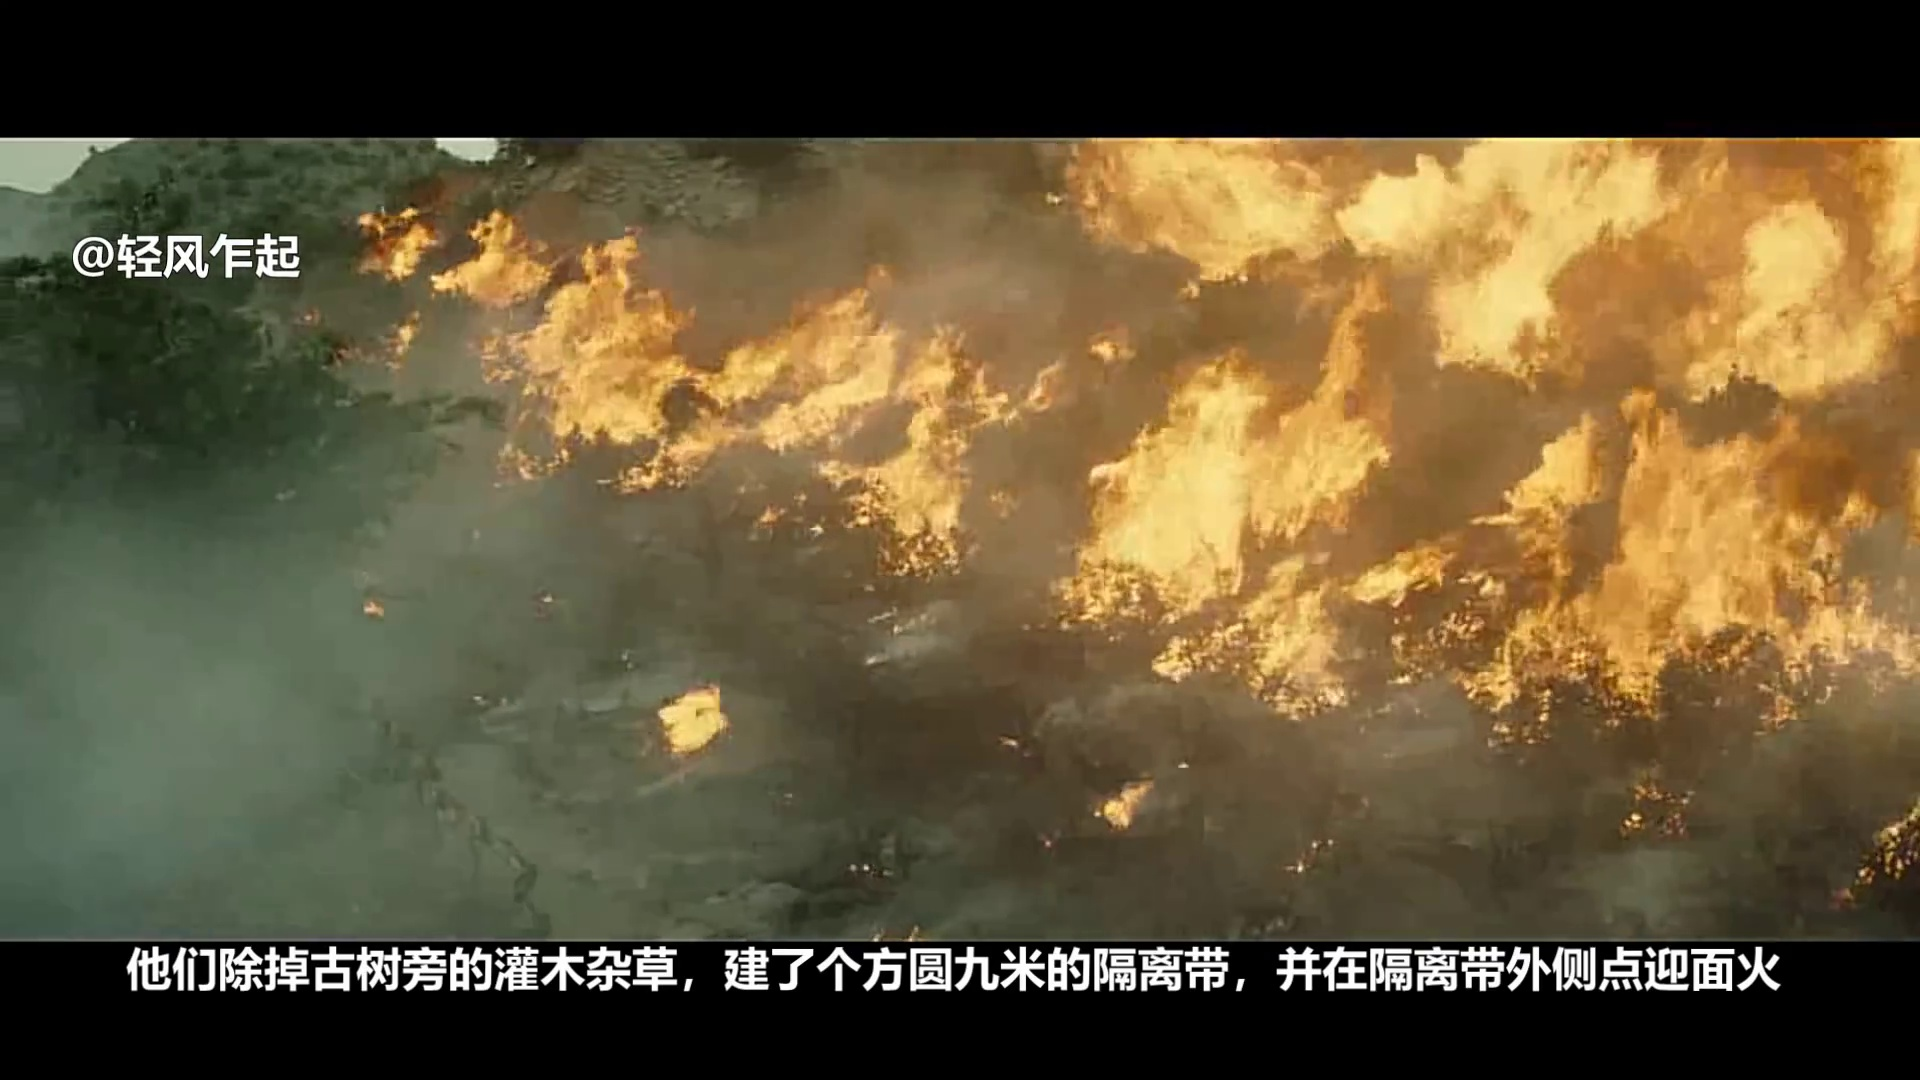fire: (1087, 140, 1920, 381), (1067, 352, 1447, 702), (1495, 392, 1920, 694), (688, 293, 990, 568), (524, 235, 683, 458), (365, 212, 535, 301), (659, 683, 728, 756), (1098, 785, 1145, 825)
